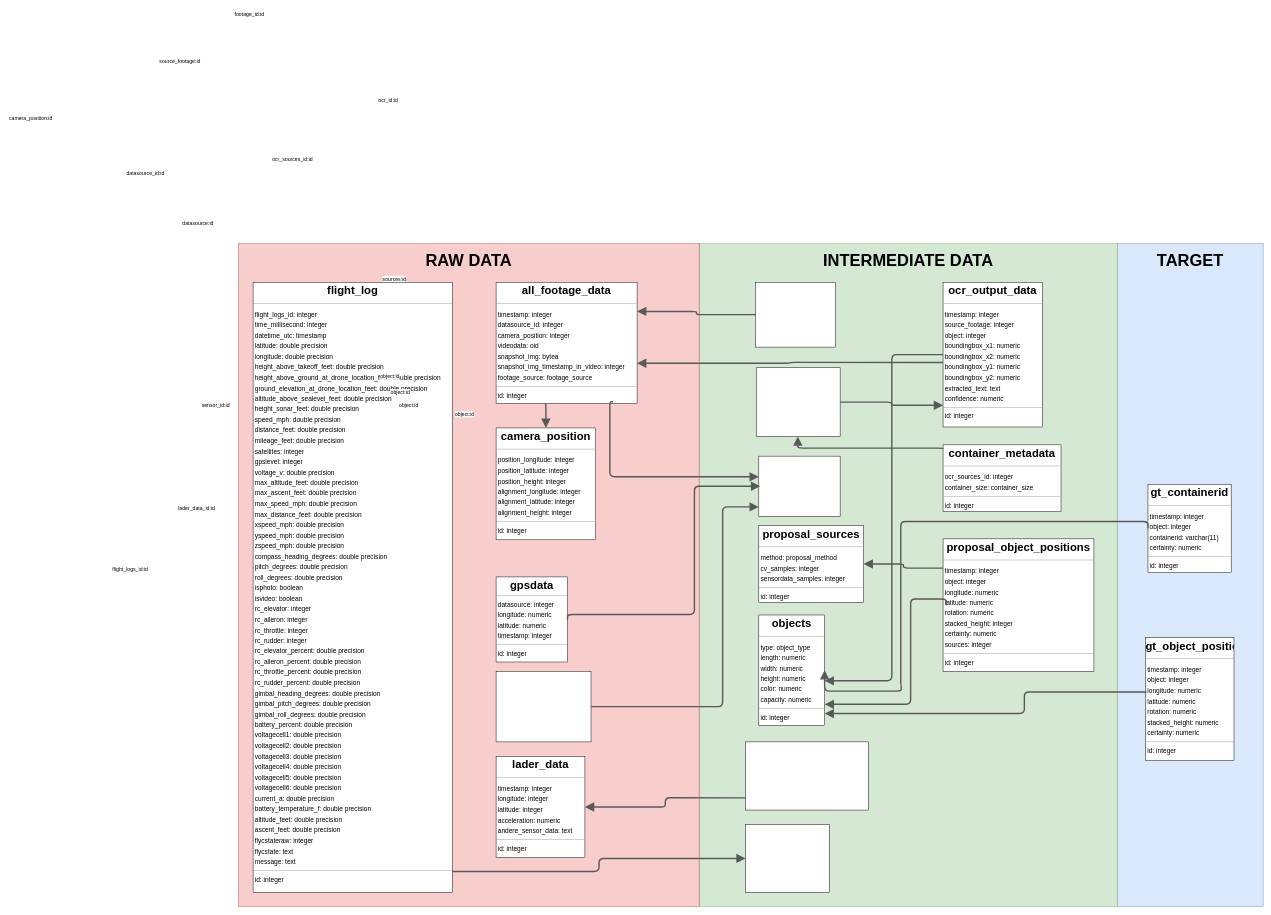
The diagram is 1271 pixels wide and 915 high, and some of its shapes have lost their labels. The shapes that lost their labels are listed below. From the top down, each one's centre as x and y in pixels, then its label:
At [795,314]: "cv_samples sample_id: integer footage_id: integer id: integer".
At [798,401]: "ocr_samples sample_id: integer ocr_id: integer id: integer".
At [799,486]: "datasources name: text id: integer".
At [543,706]: "sensor_mounts mount_id: text sensor_id: integer id: integer".
At [806,775]: "sensordata_samples sample_id: integer lader_data_id: integer id: integer".
At [787,858]: "flight_logs drone_type: drone_type log_entry: text id: integer".
